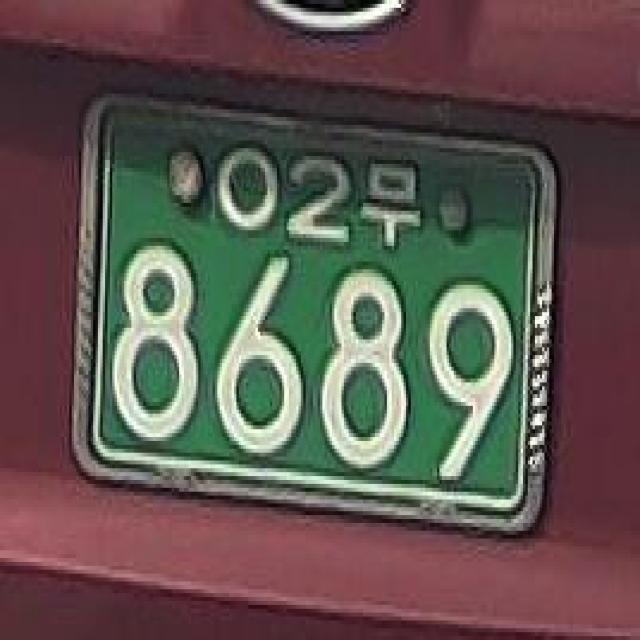illegal_plate: (65, 84, 567, 558)
